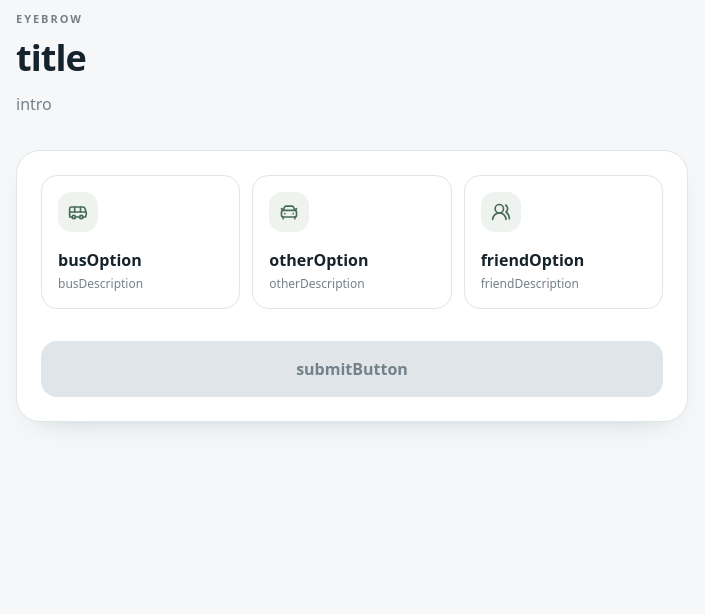
Test case: ReportForm › uses the recommended time and submits the v2.1 bus payload
Step 1. Click the button "busOption busDescription" → [141, 242], box [41,175,240,309]
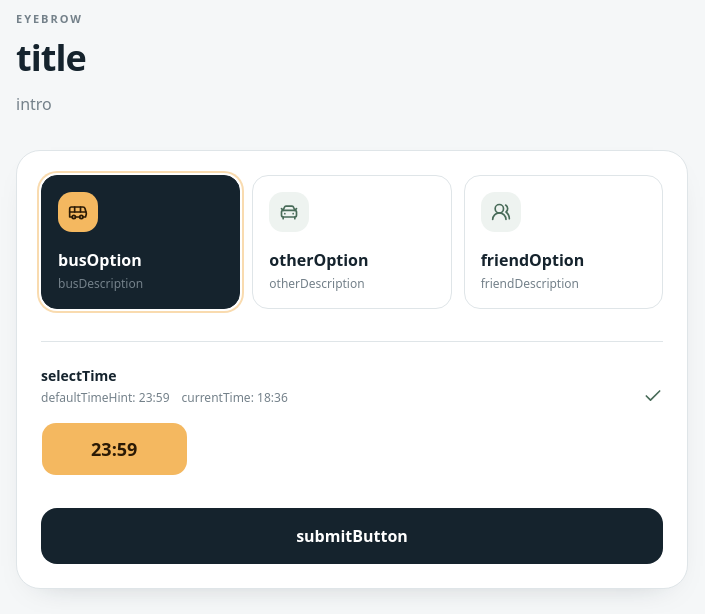
Step 2. Click the button "submitButton" → [352, 536], box [41,508,663,564]
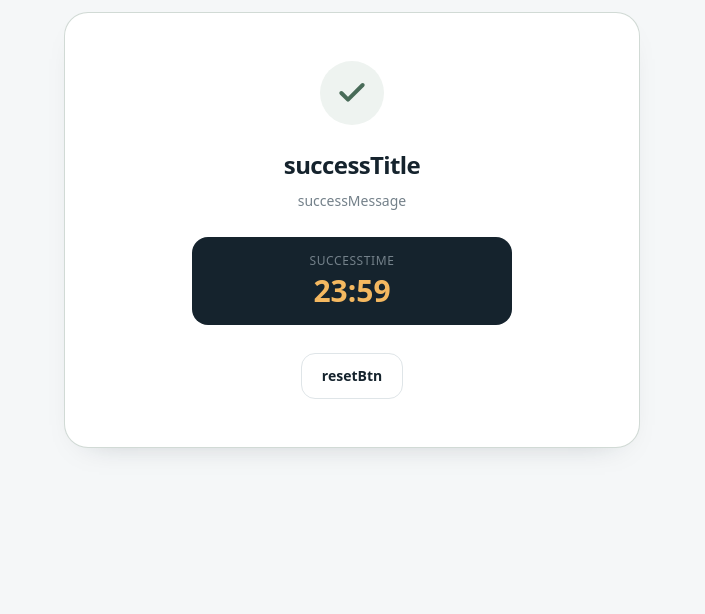
Check: the heading "successTitle" is shown, box [284,148,420,181]
